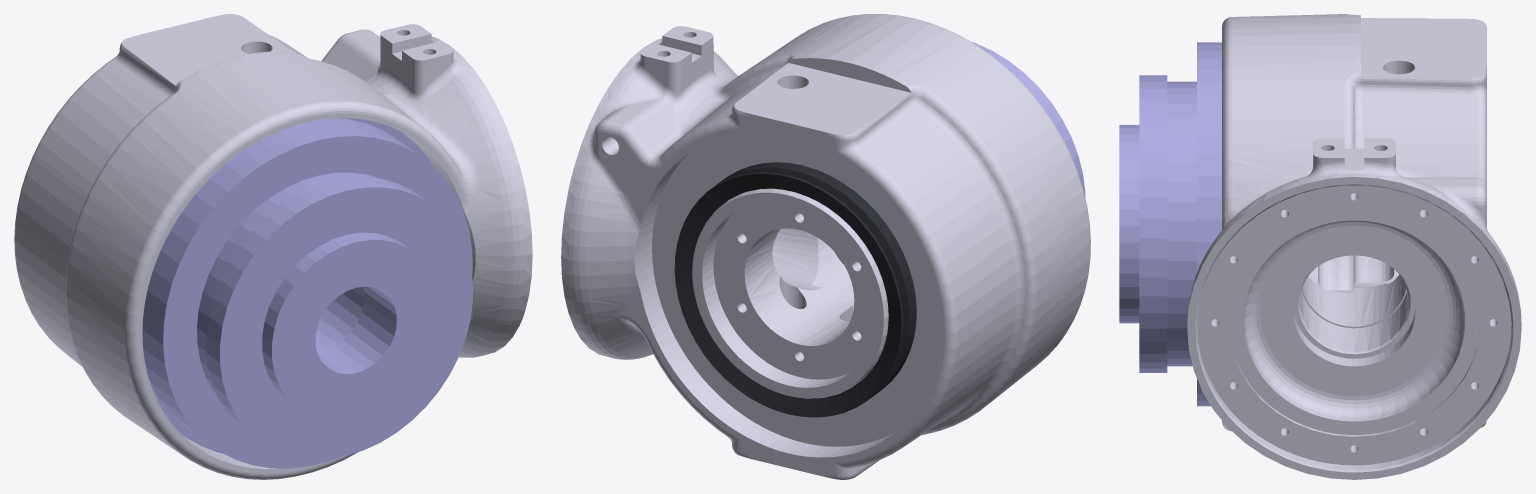
3 views of the same model, side by side, from view 1: azimuth 30°, elevation 25°; view 2: azimuth 150°, elevation 25°; view 3: azimuth 270°, elevation 25° (orthographic).
Parts seen in each view (by area): view 1: J5; view 2: J5; view 3: J5.
Boxes of the visible parts, x1=… form: J5: x1=14, y1=14, x2=532, y2=479; J5: x1=561, y1=14, x2=1090, y2=479; J5: x1=1119, y1=14, x2=1521, y2=479.
Size of the model in its own units: 0.138 by 0.1215 by 0.1271.
